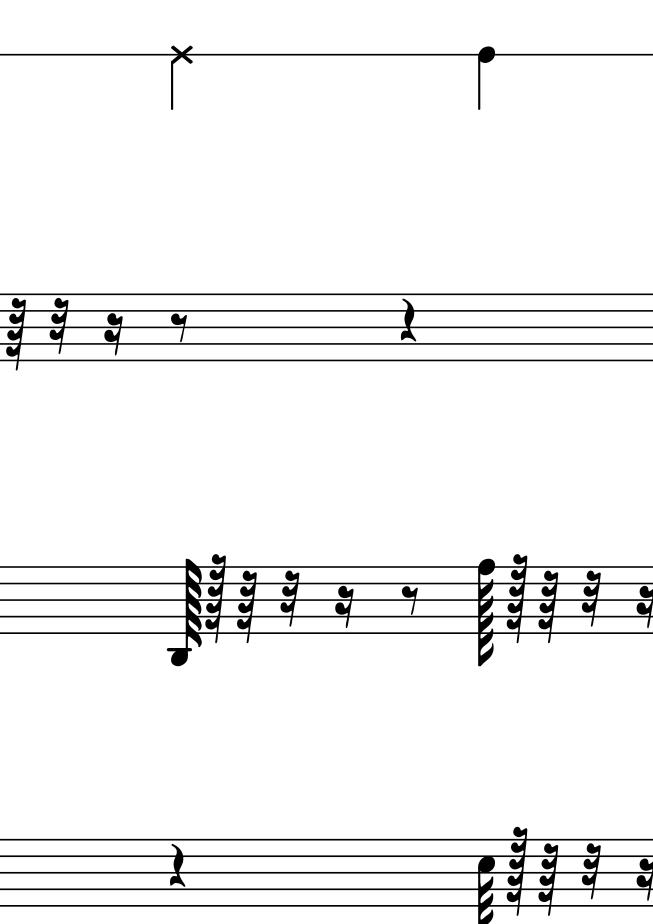128_-3: (166, 559, 204, 666)
128_8: (475, 557, 497, 667)
4_4: (476, 45, 496, 112)
Rests128: (203, 552, 227, 643), (505, 825, 529, 916), (505, 554, 529, 642)
Rests16: (333, 584, 355, 630), (103, 312, 124, 358), (635, 583, 652, 628), (635, 857, 652, 902)
Rests32: (278, 569, 300, 629), (580, 842, 602, 902), (47, 296, 69, 355), (580, 570, 602, 628)
Rests4: (167, 842, 187, 890), (398, 297, 418, 344)
Rests64: (5, 296, 29, 370), (236, 569, 260, 643), (536, 569, 560, 643), (536, 843, 560, 917)
Rests8: (399, 584, 422, 617), (168, 310, 190, 343)
